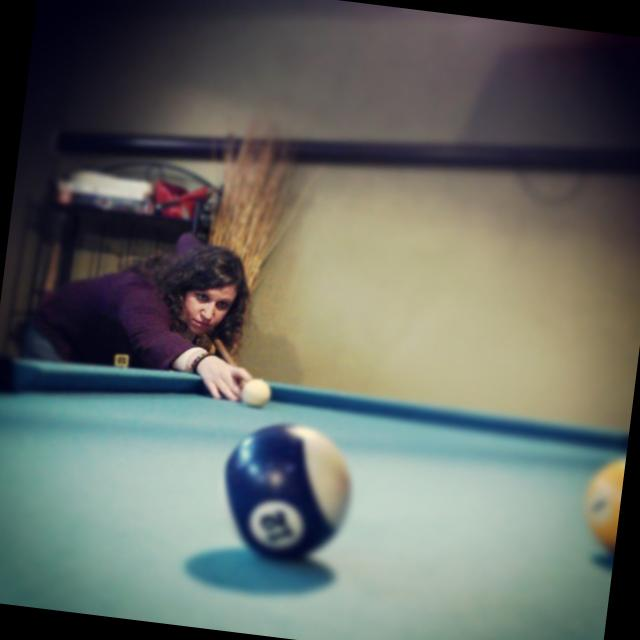Ball: (215, 415, 357, 573), (585, 458, 624, 544), (240, 378, 270, 405)
